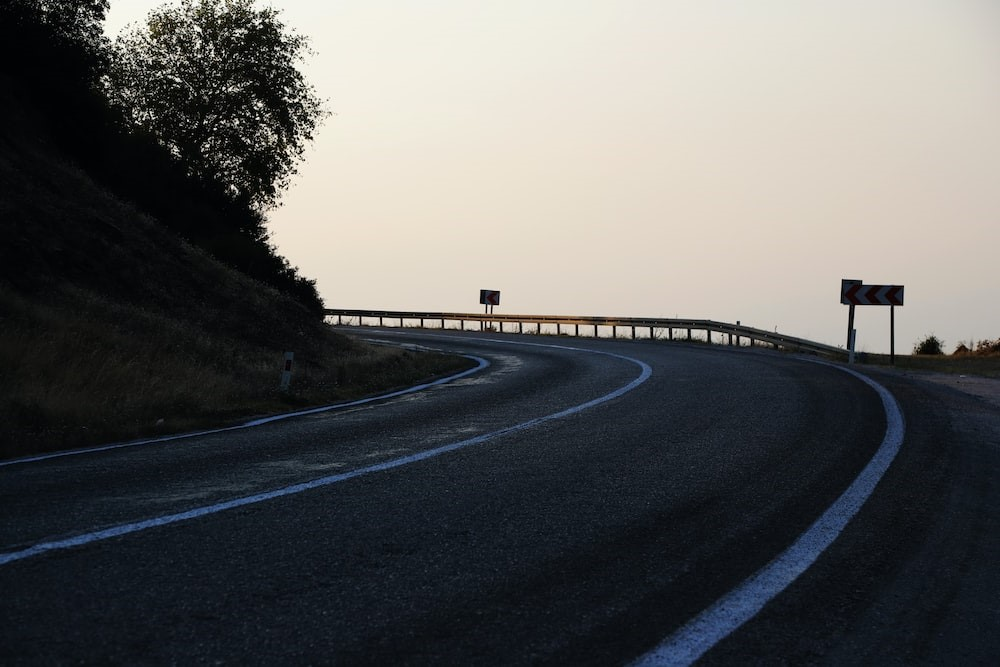leftTrun: (327, 278, 801, 504)
